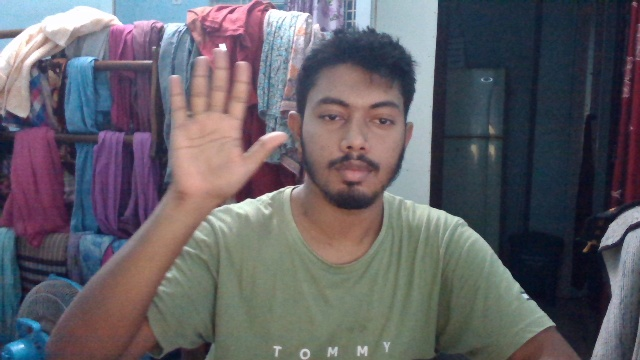hello: (160, 47, 290, 201)
